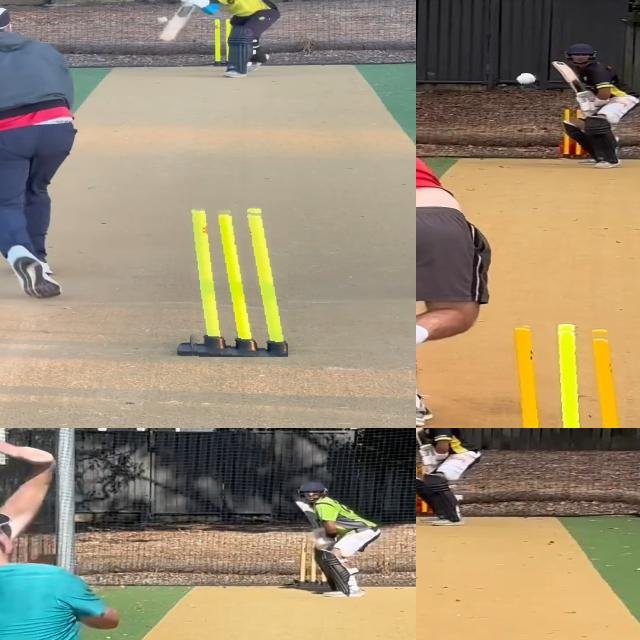Cricket ball: (514, 72, 540, 86), (156, 16, 171, 24)
Stumps: (177, 206, 288, 357), (496, 323, 626, 428)
